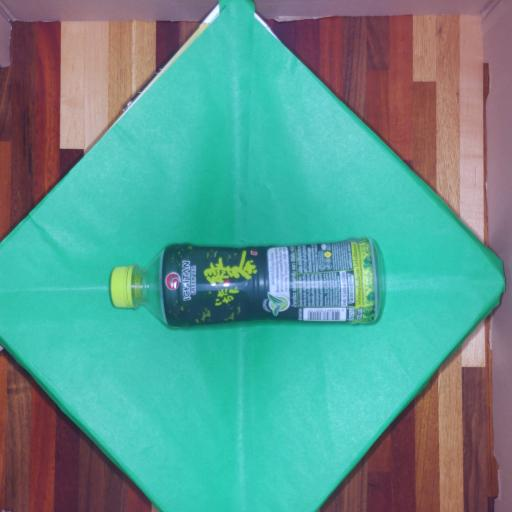bottle: (110, 239, 379, 326)
